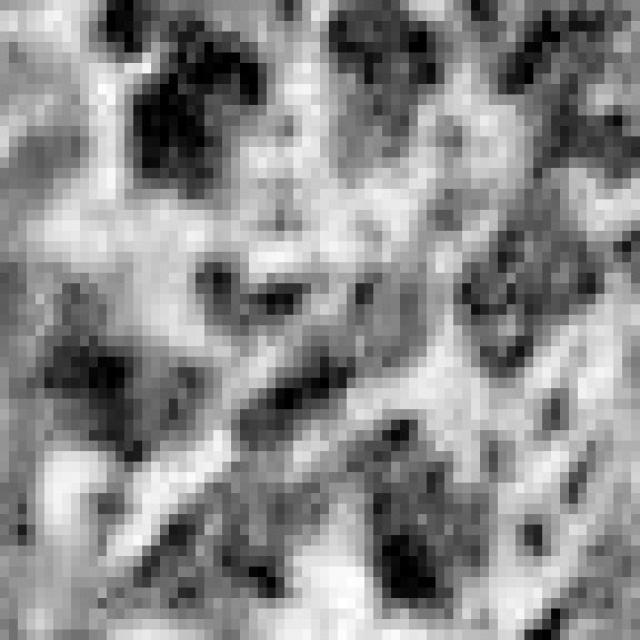inner: (187, 249, 444, 462)
lobe: (346, 409, 502, 630), (34, 282, 216, 467), (101, 472, 323, 620), (448, 181, 607, 384), (118, 19, 279, 213), (323, 0, 451, 186)
outer: (2, 0, 640, 640)
